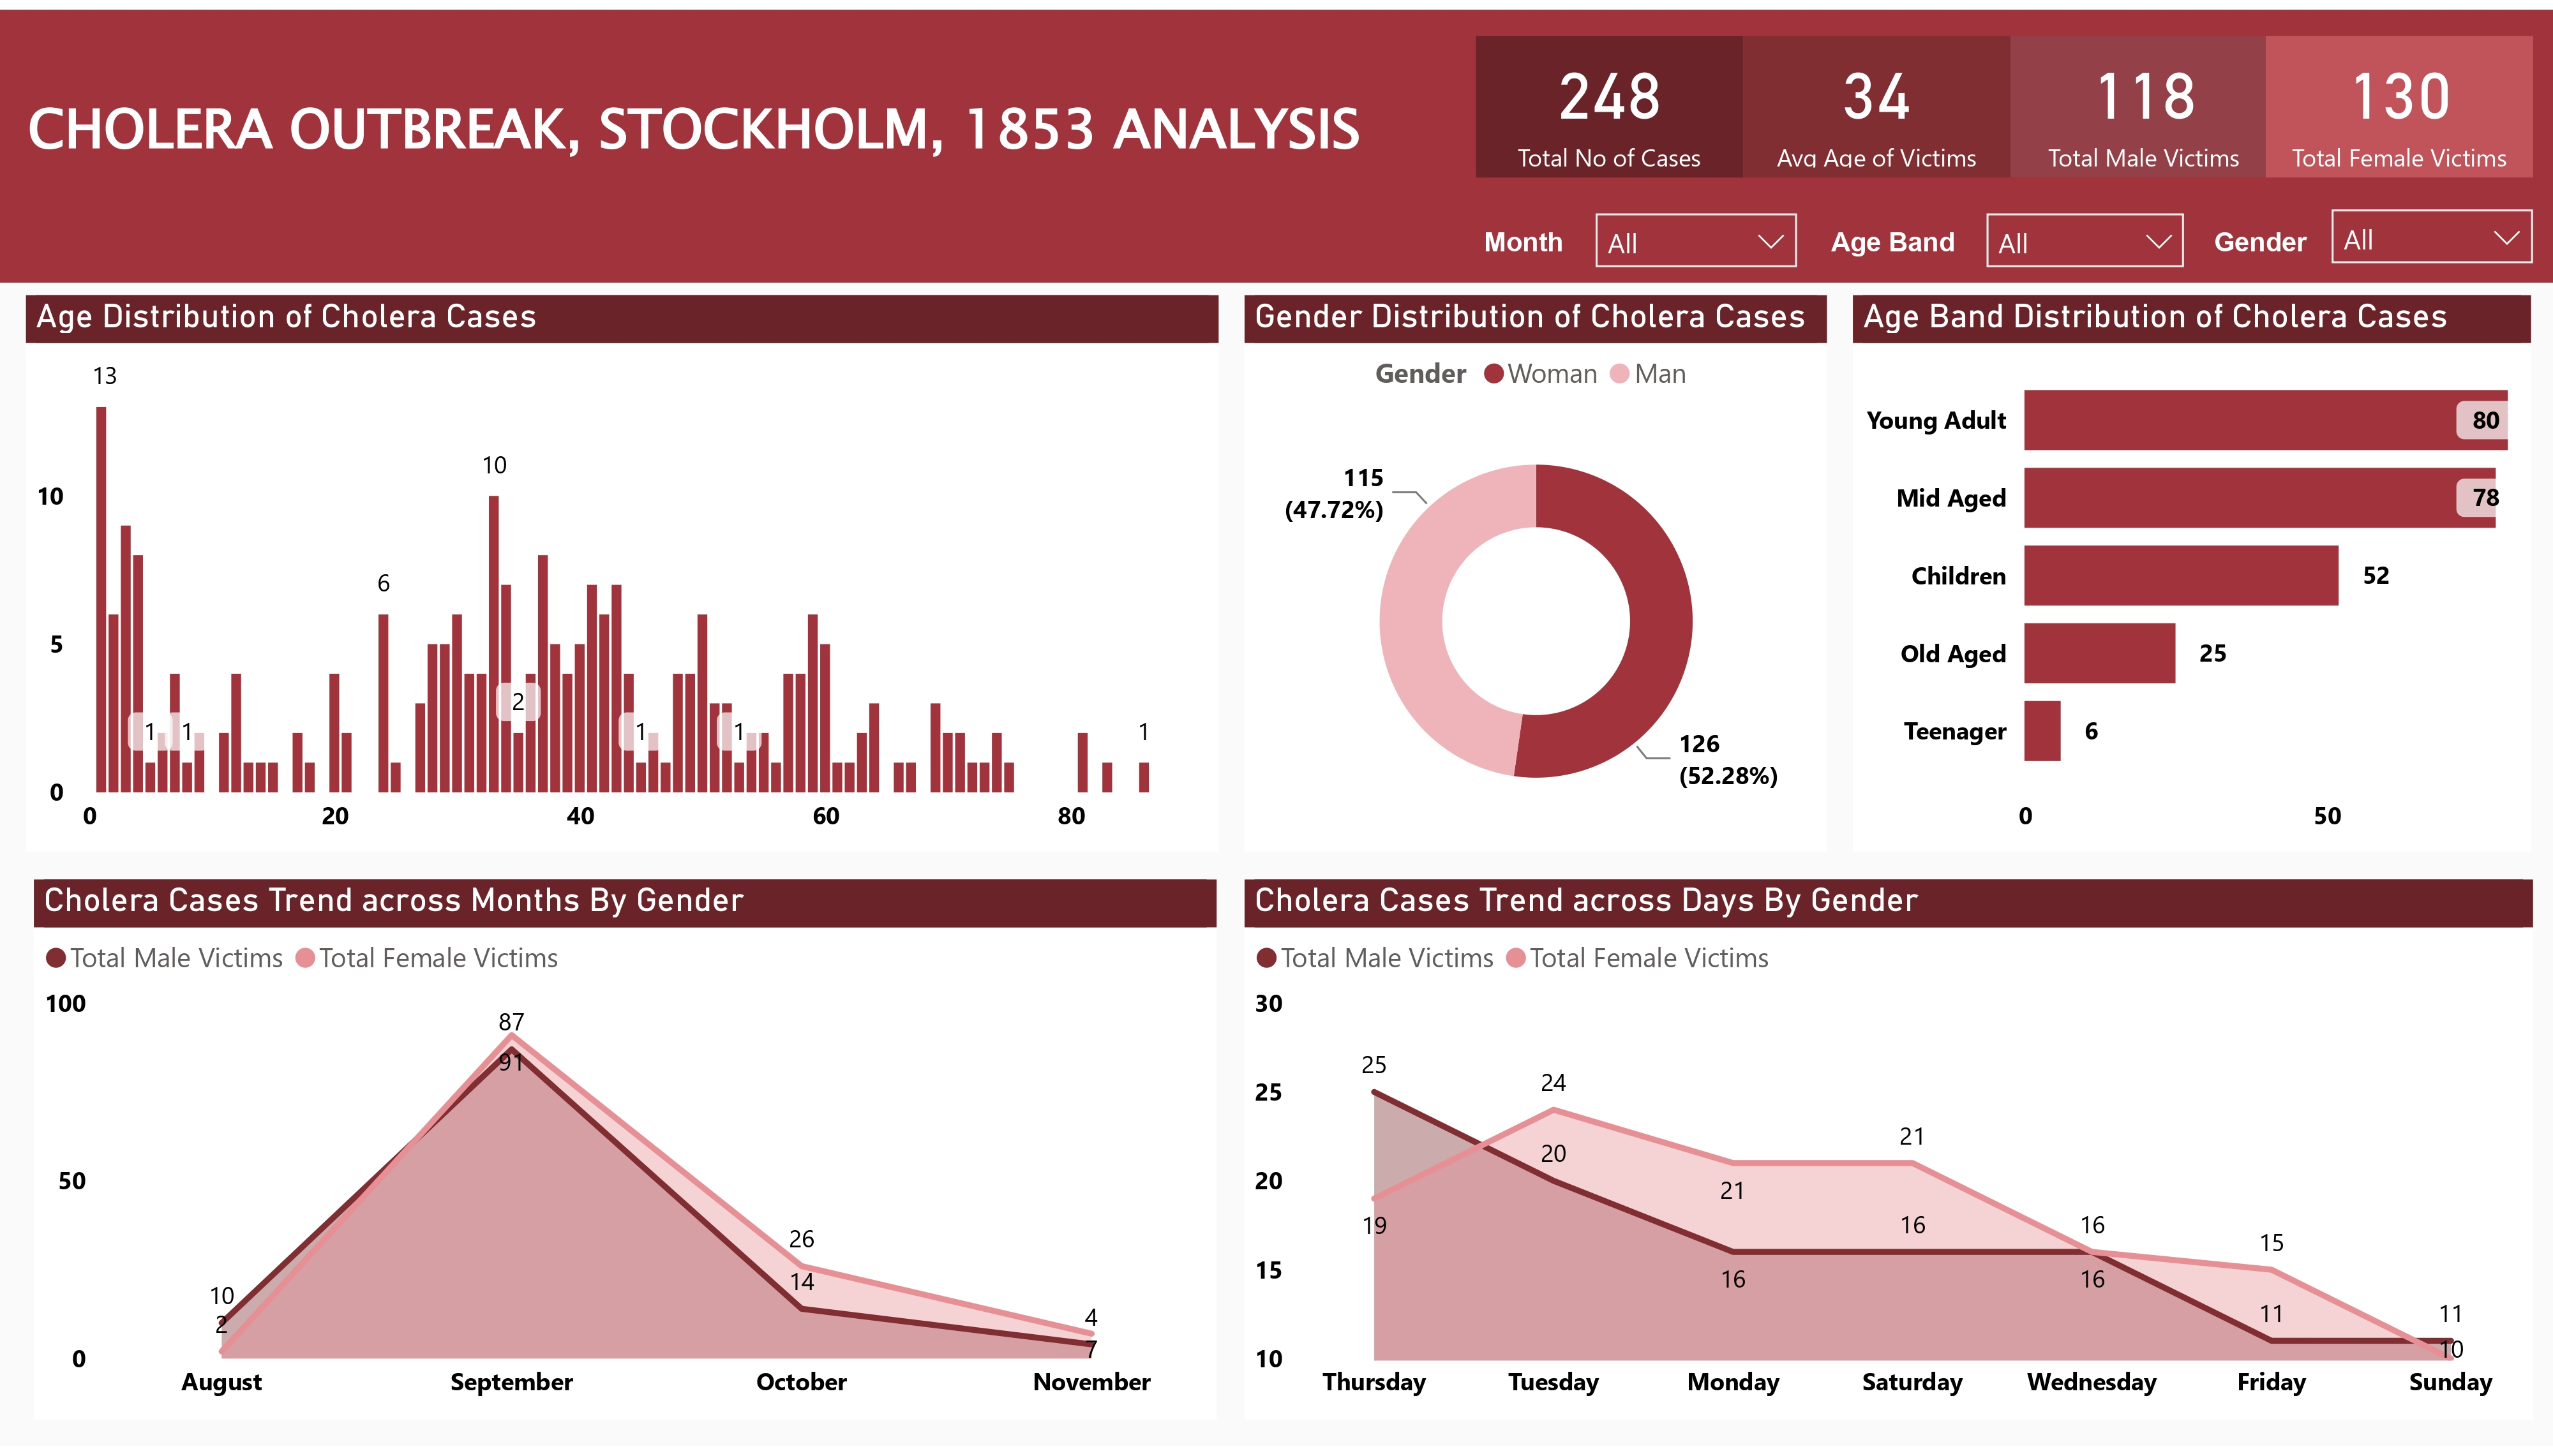

What the dashboard file says about the page in this screenshot:
{"tool":"powerbi","page":{"name":"REPORT","canvas":[1280,720],"ordinal":0},"visuals":[{"type":"shape","box":[0,0,1280,136.7],"z":0},{"type":"textbox","box":[8.7,34.9,734.5,65.5],"z":1000},{"type":"card","fields":{"Values":["DAX.Total No of Cases"]},"box":[740.4,13.1,133.8,71.3],"z":2000},{"type":"card","fields":{"Values":["DAX.Avg Age of Victims"]},"box":[874.2,13.1,133.8,71.3],"z":3000},{"type":"card","fields":{"Values":["DAX.Total Male Victims"]},"box":[1008,13.1,133.8,71.3],"z":4000},{"type":"card","fields":{"Values":["DAX.Total Female Victims"]},"box":[1136,13.1,133.8,71.3],"z":5000},{"type":"lineClusteredColumnComboChart","title":"Age Distribution of Cholera Cases","fields":{"Category":["kolera-katarina-1853_New.Age"],"Y":["DAX.Total No of Cases"]},"box":[13.1,142.5,597.8,279.3],"z":6000},{"type":"donutChart","title":"Gender Distribution of Cholera Cases","fields":{"Y":["DAX.Total No of Cases"],"Category":["kolera-katarina-1853_New.Gender"]},"box":[624,142.5,292.4,279.3],"z":7000},{"type":"barChart","title":"Age Band Distribution of Cholera Cases","fields":{"Category":["kolera-katarina-1853_New.Age Band"],"Y":["DAX.Total No of Cases"]},"box":[929.5,142.5,340.4,279.3],"z":8000},{"type":"areaChart","title":"Cholera Cases Trend across Months By Gender","fields":{"Category":["kolera-katarina-1853_New.Date_Of_Death.Variation.Date Hierarchy.Month"],"Y":["DAX.Total Male Victims","DAX.Total Female Victims"]},"box":[17.5,436.4,593.5,270.5],"z":9000},{"type":"areaChart","title":"Cholera Cases Trend across Days By Gender","fields":{"Y":["DAX.Total Male Victims","DAX.Total Female Victims"],"Category":["kolera-katarina-1853_New.Day"]},"box":[624,436.4,645.8,270.5],"z":10000},{"type":"slicer","fields":{"Values":["kolera-katarina-1853_New.Age Band"]},"box":[986.2,91.6,119.3,42.2],"z":11000},{"type":"slicer","fields":{"Values":["kolera-katarina-1853_New.Gender"]},"box":[1159.3,90.2,120.7,42.2],"z":12000},{"type":"textbox","box":[913.5,101.8,112,40.7],"z":13000},{"type":"textbox","box":[1105.5,101.8,112,40.7],"z":14000},{"type":"textbox","box":[738.9,101.8,107.6,40.7],"z":15000},{"type":"slicer","fields":{"Values":["kolera-katarina-1853_New.Date_Of_Death.Variation.Date Hierarchy.Month"]},"box":[789.8,91.6,120.7,42.2],"z":16000}]}

Visuals, with their boxes in screenshot pixels (x1, y1, x2, y2), scaled from the page's 1280x720 canvas onto the 2553x1456 screenshot:
shape: 0 0 2552 276
textbox: 17 71 1482 203
card - DAX.Total No of Cases: 1477 27 1744 171
card - DAX.Avg Age of Victims: 1744 27 2010 171
card - DAX.Total Male Victims: 2010 27 2277 171
card - DAX.Total Female Victims: 2266 27 2533 171
"Age Distribution of Cholera Cases" lineClusteredColumnComboChart: 26 288 1218 853
"Gender Distribution of Cholera Cases" donutChart: 1245 288 1828 853
"Age Band Distribution of Cholera Cases" barChart: 1854 288 2533 853
"Cholera Cases Trend across Months By Gender" areaChart: 35 882 1218 1429
"Cholera Cases Trend across Days By Gender" areaChart: 1245 882 2533 1429
slicer - kolera-katarina-1853_New.Age Band: 1967 185 2205 271
slicer - kolera-katarina-1853_New.Gender: 2312 182 2552 268
textbox: 1822 206 2046 288
textbox: 2205 206 2429 288
textbox: 1474 206 1688 288
slicer - kolera-katarina-1853_New.Date_Of_Death.Variation.Date Hierarchy.Month: 1575 185 1816 271
